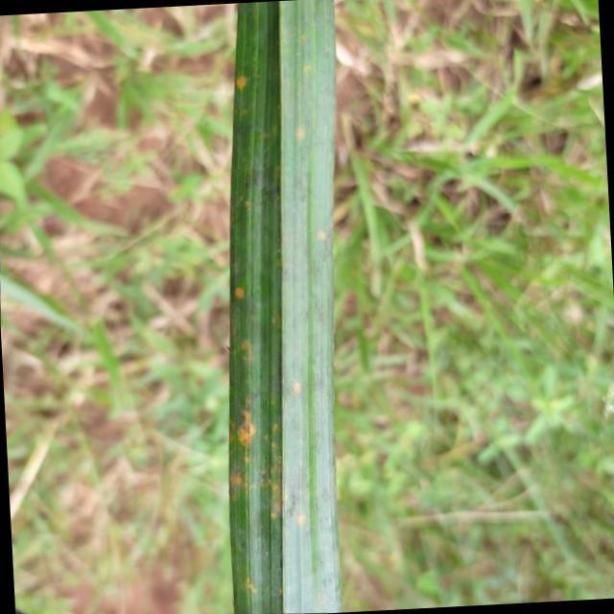Kalium: (226, 0, 340, 614)
